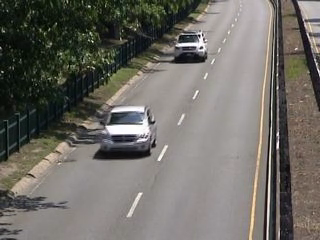car: (98, 101, 161, 162), (172, 26, 209, 66)
